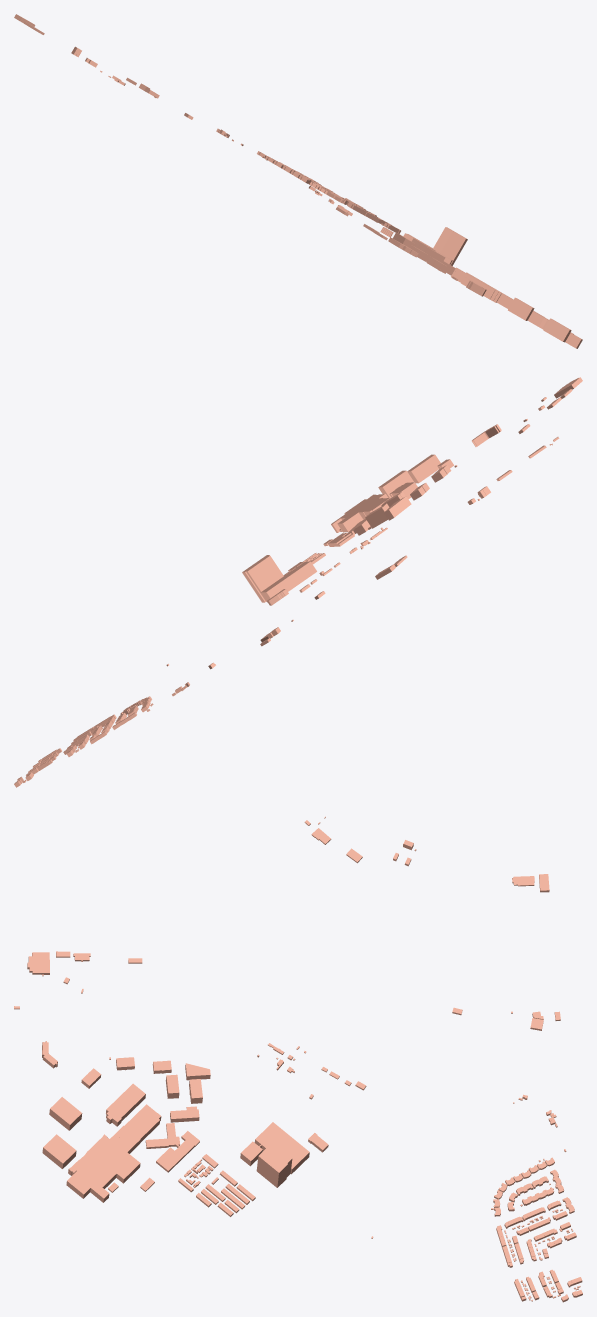
3 renders of one model, top to bottom at view 1: azimuth 30°, elevation 25°; view 2: azimuth 150°, elevation 25°; view 3: azimuth 270°, elevation 25°, orthographic. The views are drawn at different scales.
Bounding box in the file's own units: 916 × 736 × 1229.
